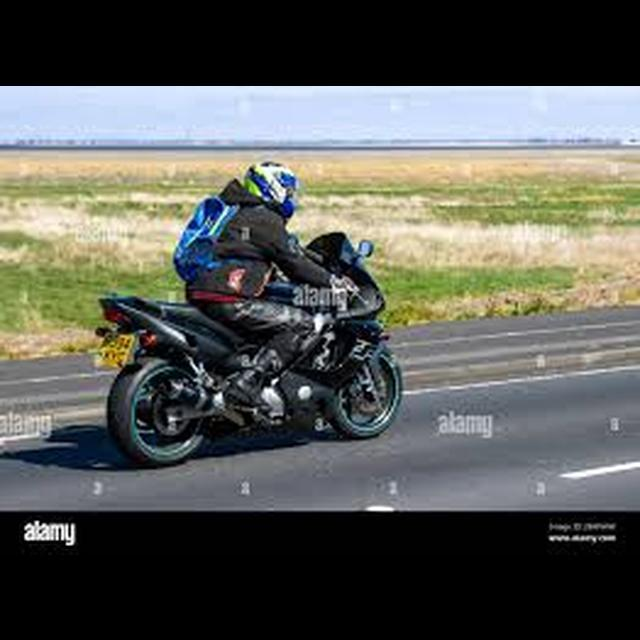motorcycle: (89, 227, 407, 467)
